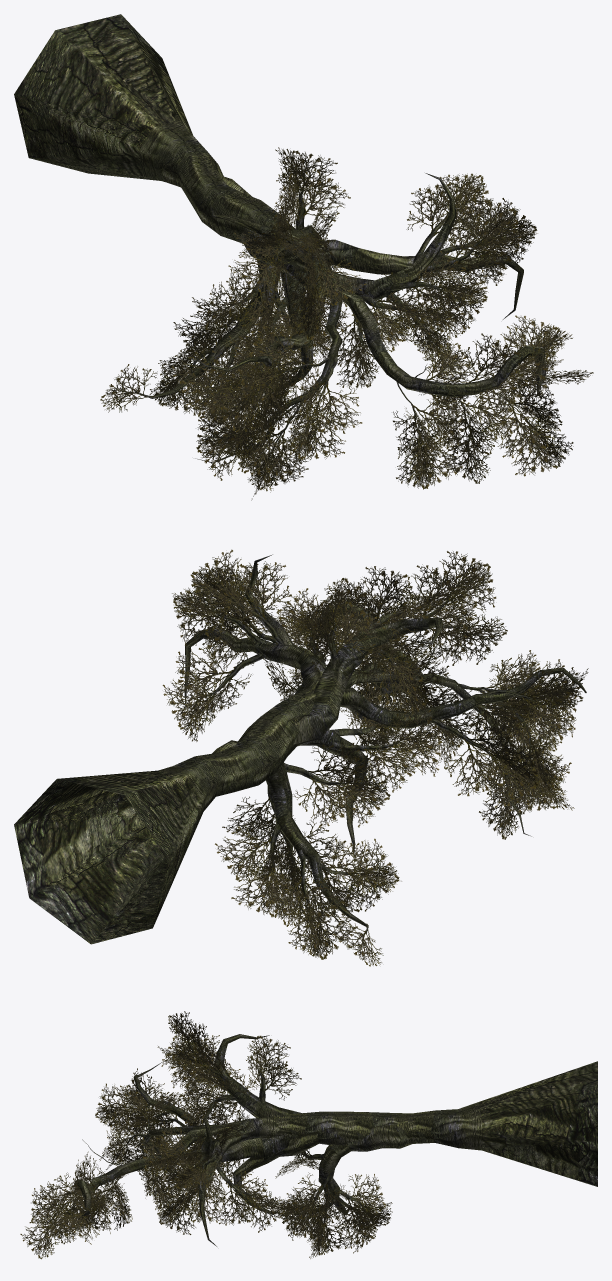
The model's file is vurt_neentree.obj.
3 renders of one model, top to bottom at view 1: azimuth 30°, elevation 25°; view 2: azimuth 150°, elevation 25°; view 3: azimuth 270°, elevation 25°, orthographic. The views are drawn at different scales.
Parts seen in each view (by area): view 1: plant_pmat4, plant_pmat1.001, plant_pmat2.001, plant_pmat4.001, plant_pmat3; view 2: plant_pmat4, plant_pmat1.001, plant_pmat2.001, plant_pmat4.001, plant_pmat3; view 3: plant_pmat4, plant_pmat1.001, plant_pmat2.001, plant_pmat4.001, plant_pmat3.
Boxes of the visible parts, x1,y1,x2,y2 form: plant_pmat4: [100, 147, 593, 500]; plant_pmat1.001: [14, 14, 347, 289]; plant_pmat2.001: [135, 173, 546, 463]; plant_pmat4.001: [104, 147, 592, 489]; plant_pmat3: [190, 187, 526, 457]; plant_pmat4: [162, 549, 588, 966]; plant_pmat1.001: [14, 673, 357, 944]; plant_pmat2.001: [184, 554, 586, 934]; plant_pmat4.001: [164, 552, 583, 966]; plant_pmat3: [204, 594, 539, 914]; plant_pmat4: [20, 1011, 392, 1258]; plant_pmat1.001: [194, 1061, 597, 1186]; plant_pmat2.001: [75, 1034, 413, 1246]; plant_pmat4.001: [21, 1014, 390, 1256]; plant_pmat3: [55, 1040, 365, 1231].
Bounding box in the file's own units: 970 × 805 × 1726.
Materials: 8 (8 with a texture image).
